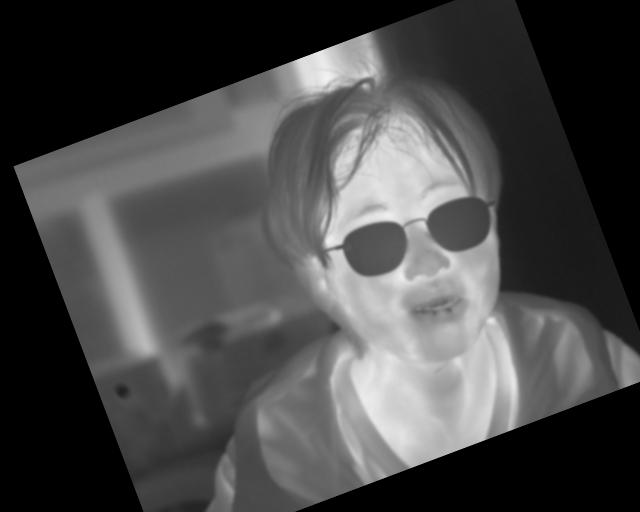face: (89, 29, 265, 222), (363, 137, 480, 265)
